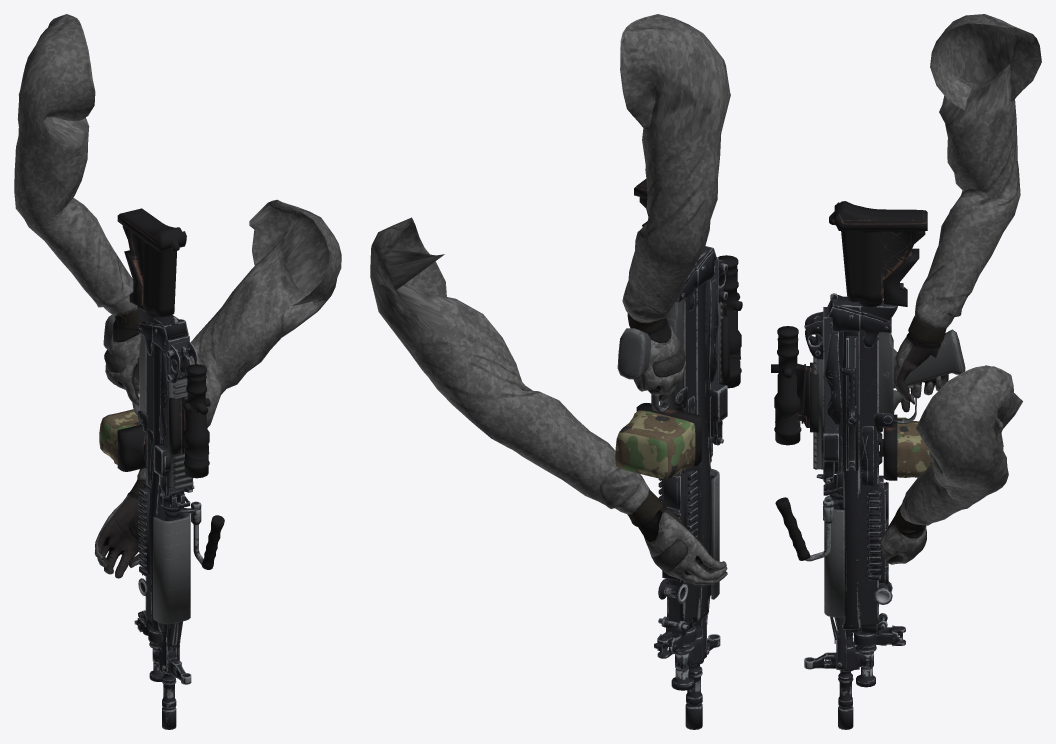
File: Machinegun.obj
3 views of the same model, side by side, from view 1: azimuth 30°, elevation 25°; view 2: azimuth 150°, elevation 25°; view 3: azimuth 270°, elevation 25° (orthographic). The views are drawn at different scales.
Visible parts, largest first — view 1: Lowpoly002, M249_lowpoly; view 2: Lowpoly002, M249_lowpoly; view 3: M249_lowpoly, Lowpoly002.
Boxes of the visible parts, x1,y1,x2,y2 form: Lowpoly002: (14,14,341,578); M249_lowpoly: (99,208,224,729); Lowpoly002: (370,14,730,586); M249_lowpoly: (615,179,742,729); M249_lowpoly: (771,201,965,729); Lowpoly002: (881,14,1041,564).
Size of the model in its own units: 245 by 506 by 180.
Materials: 2 (2 with a texture image).
